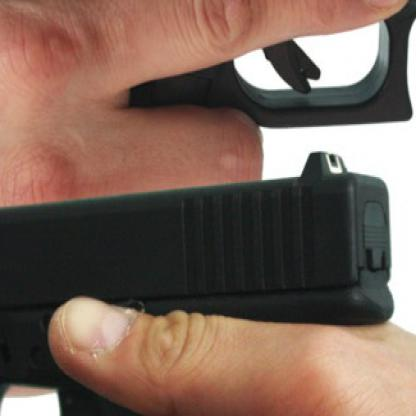gun: (0, 152, 394, 414), (0, 0, 415, 129)
